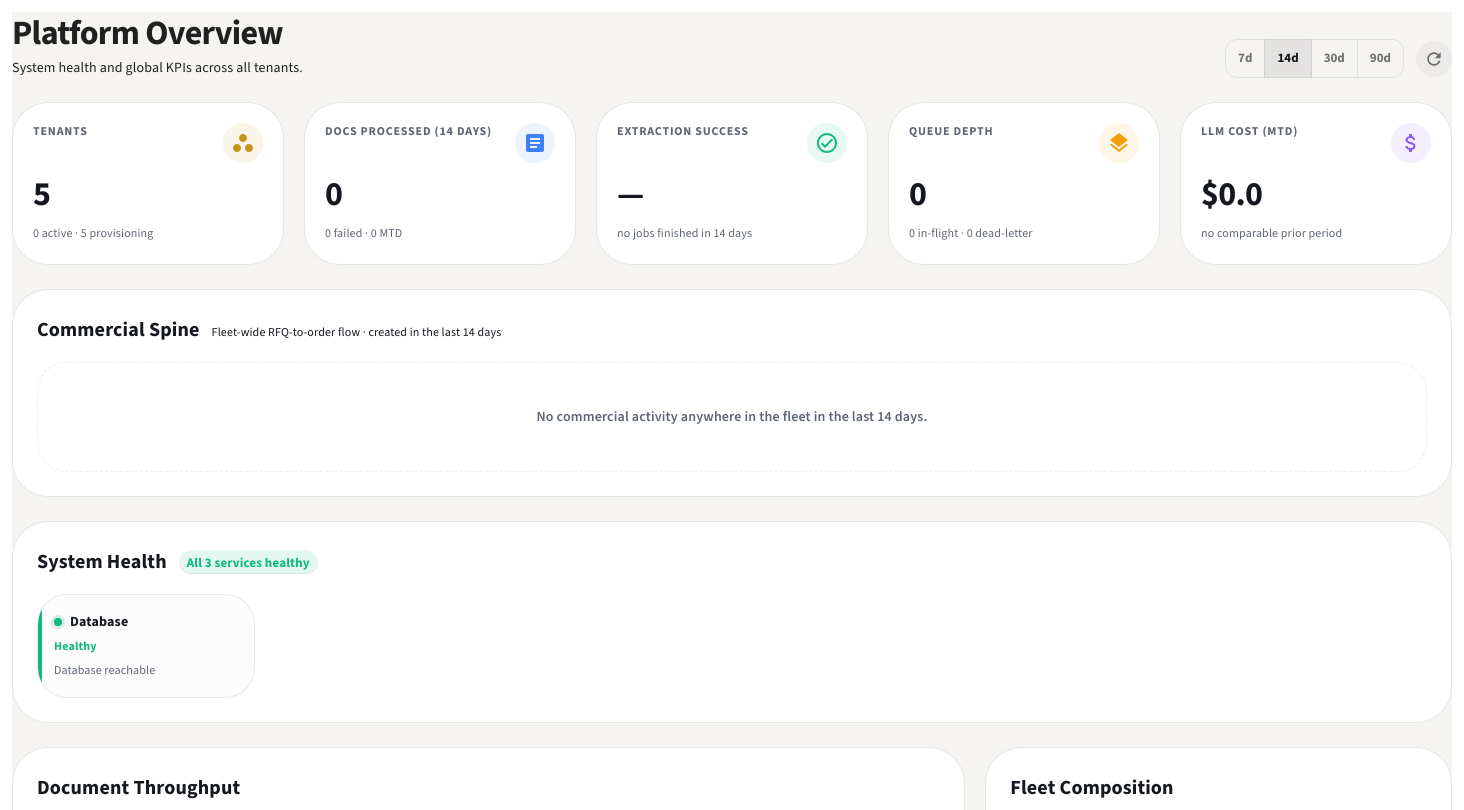
Test case: platform overview › asks the server for the window the operator selected
The image size is (1464, 810).
Check: the heading "System Health" is shown, box 37,546 -> 167,578
Click the button named "30 day window" at (1334, 59), box 1311,39 -> 1358,78
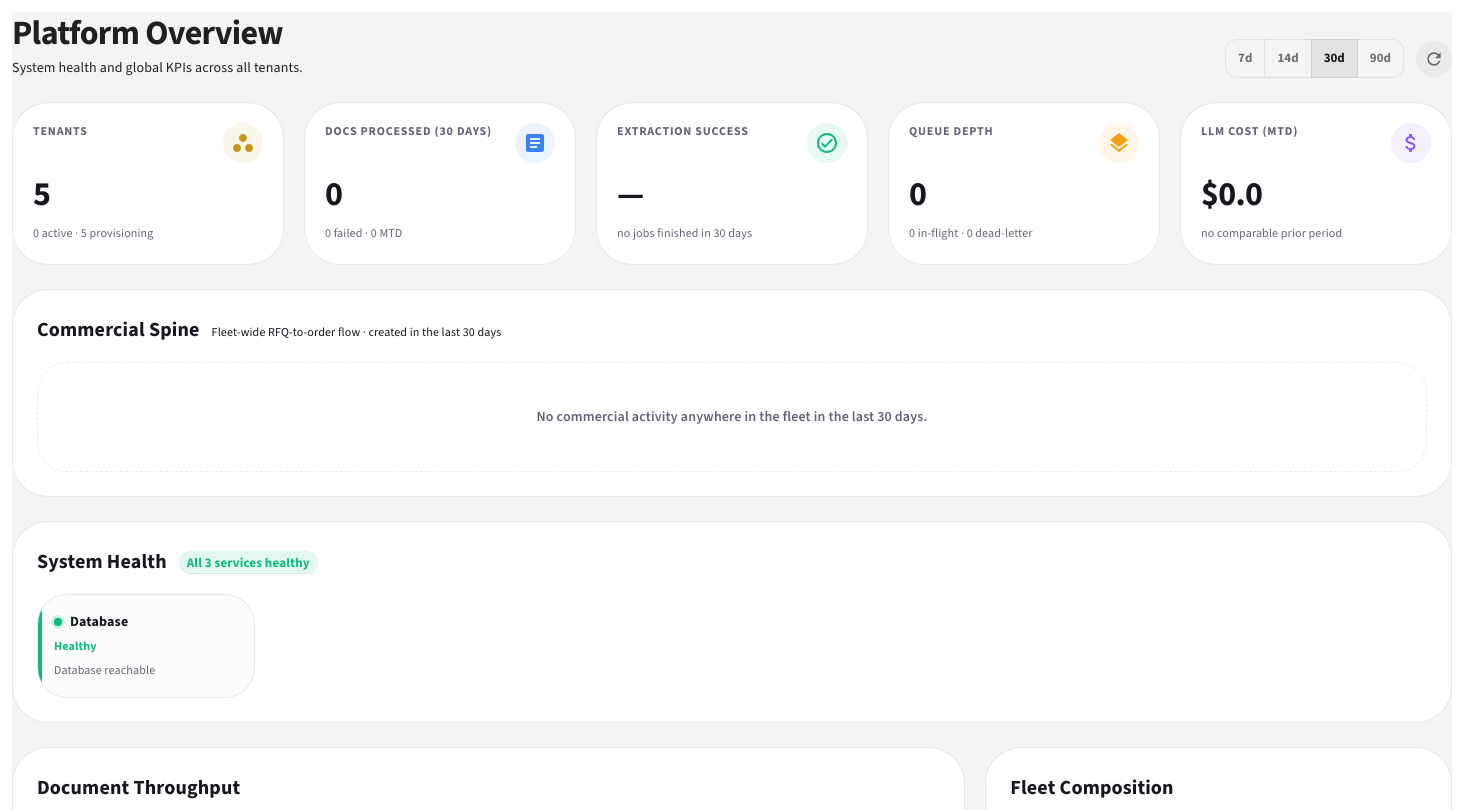
Check: the text "no jobs finished in 30 days" is shown, box 617,224 -> 752,244
